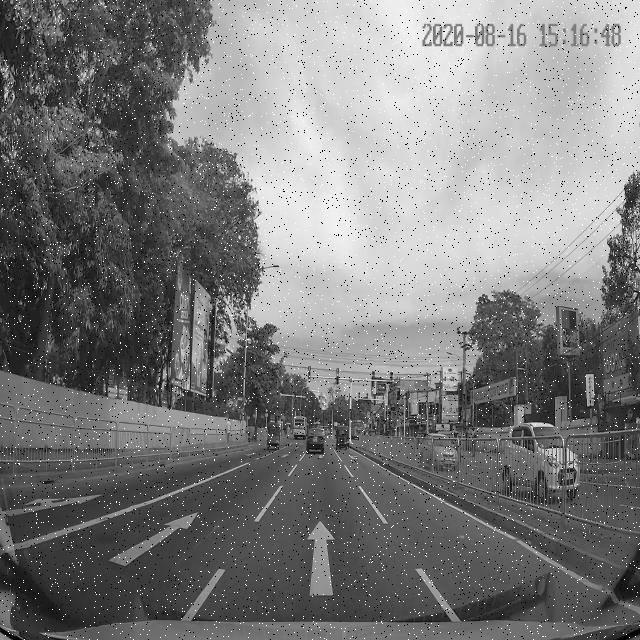forward: (190, 498, 463, 611)
